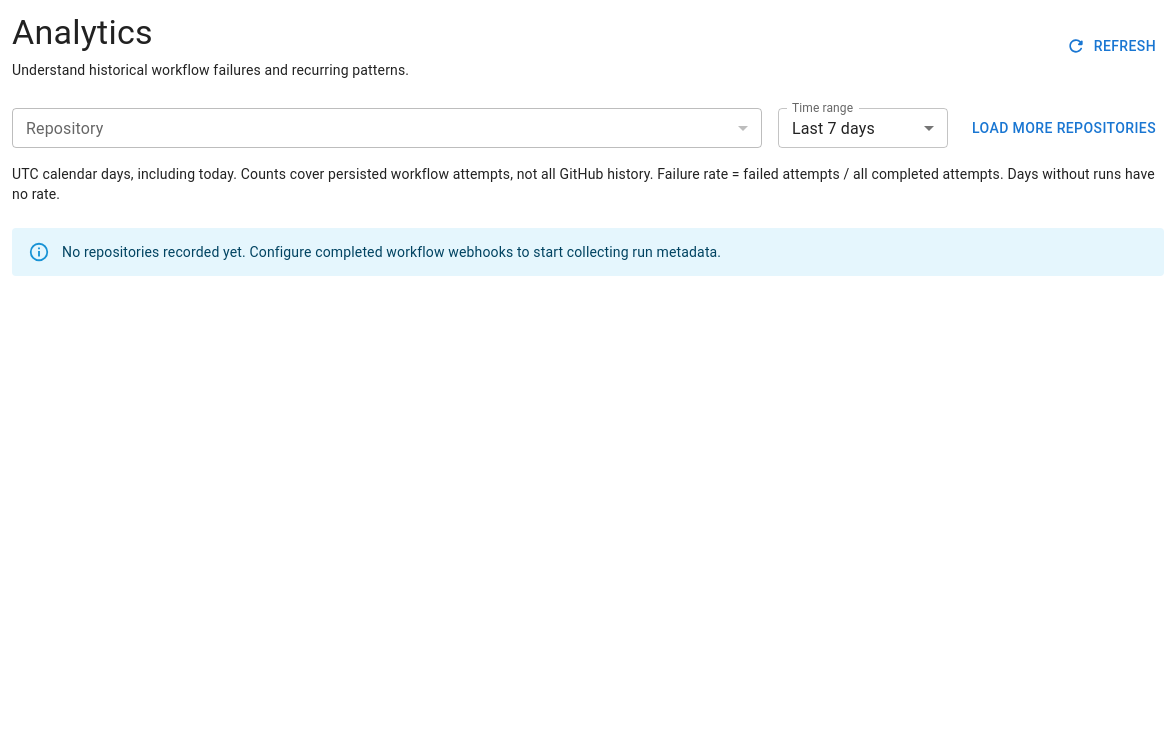
Test: analytics dashboard › allows loading later catalog pages, including an empty initial page with a cursor
This screenshot has width=1176, height=732.
Step 1. Click the button "Load more repositories" → [1064, 128], box left=964, top=108, right=1164, bottom=148
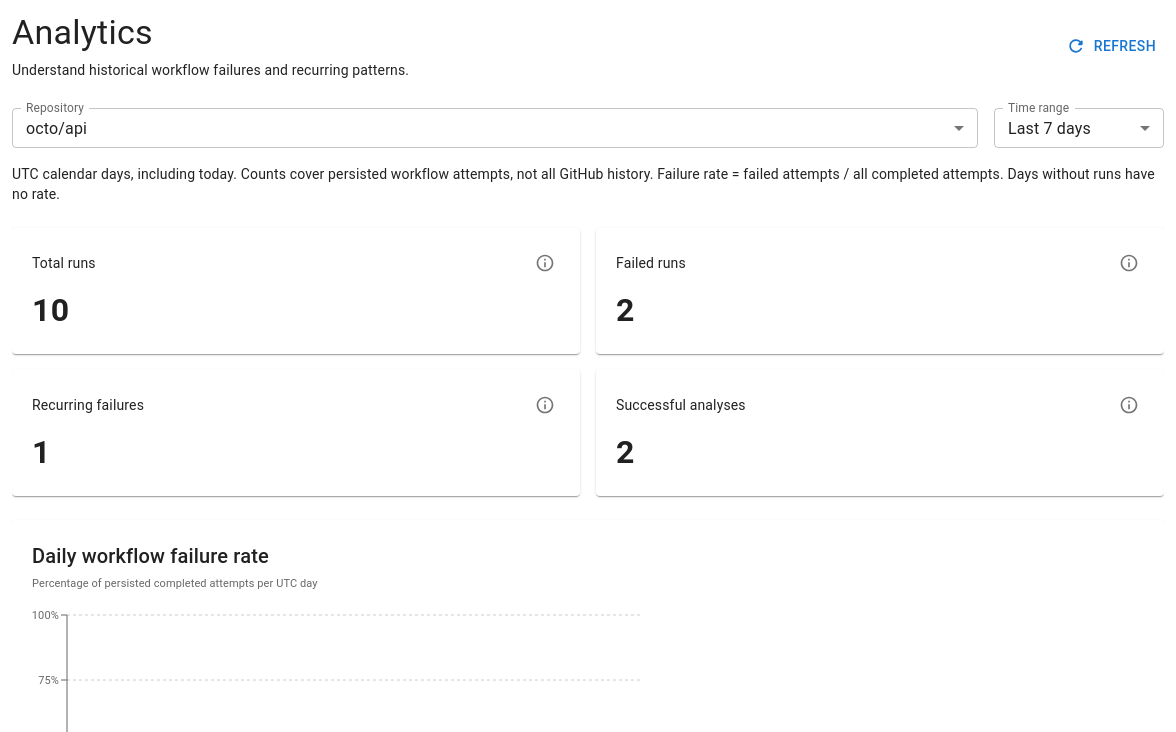
Result: the text "10" is shown at left=32, top=291, right=69, bottom=329
